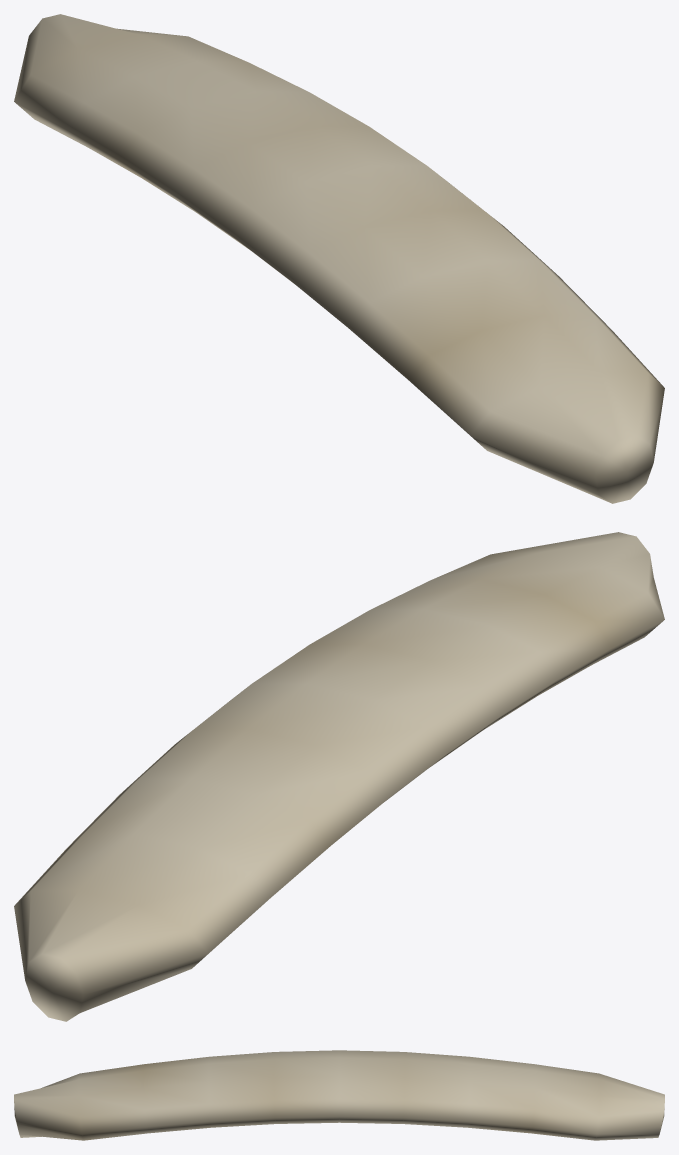
Rendered from bone-rib-a.glb.
3 renders of one model, top to bottom at view 1: azimuth 30°, elevation 25°; view 2: azimuth 150°, elevation 25°; view 3: azimuth 270°, elevation 25°, orthographic. The views are drawn at different scales.
Parts seen in each view (by area): view 1: bone-rib-a; view 2: bone-rib-a; view 3: bone-rib-a.
Boxes of the visible parts, x1,y1,x2,y2 form: bone-rib-a: [14, 14, 664, 503]; bone-rib-a: [14, 532, 664, 1021]; bone-rib-a: [14, 1050, 664, 1140].
Size of the model in its own units: 0.22 by 0.117 by 1.01.
